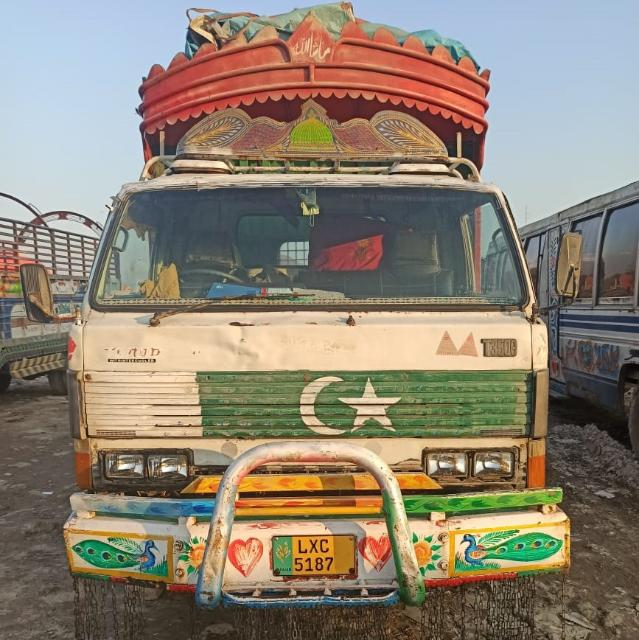plate: (268, 534, 360, 578)
